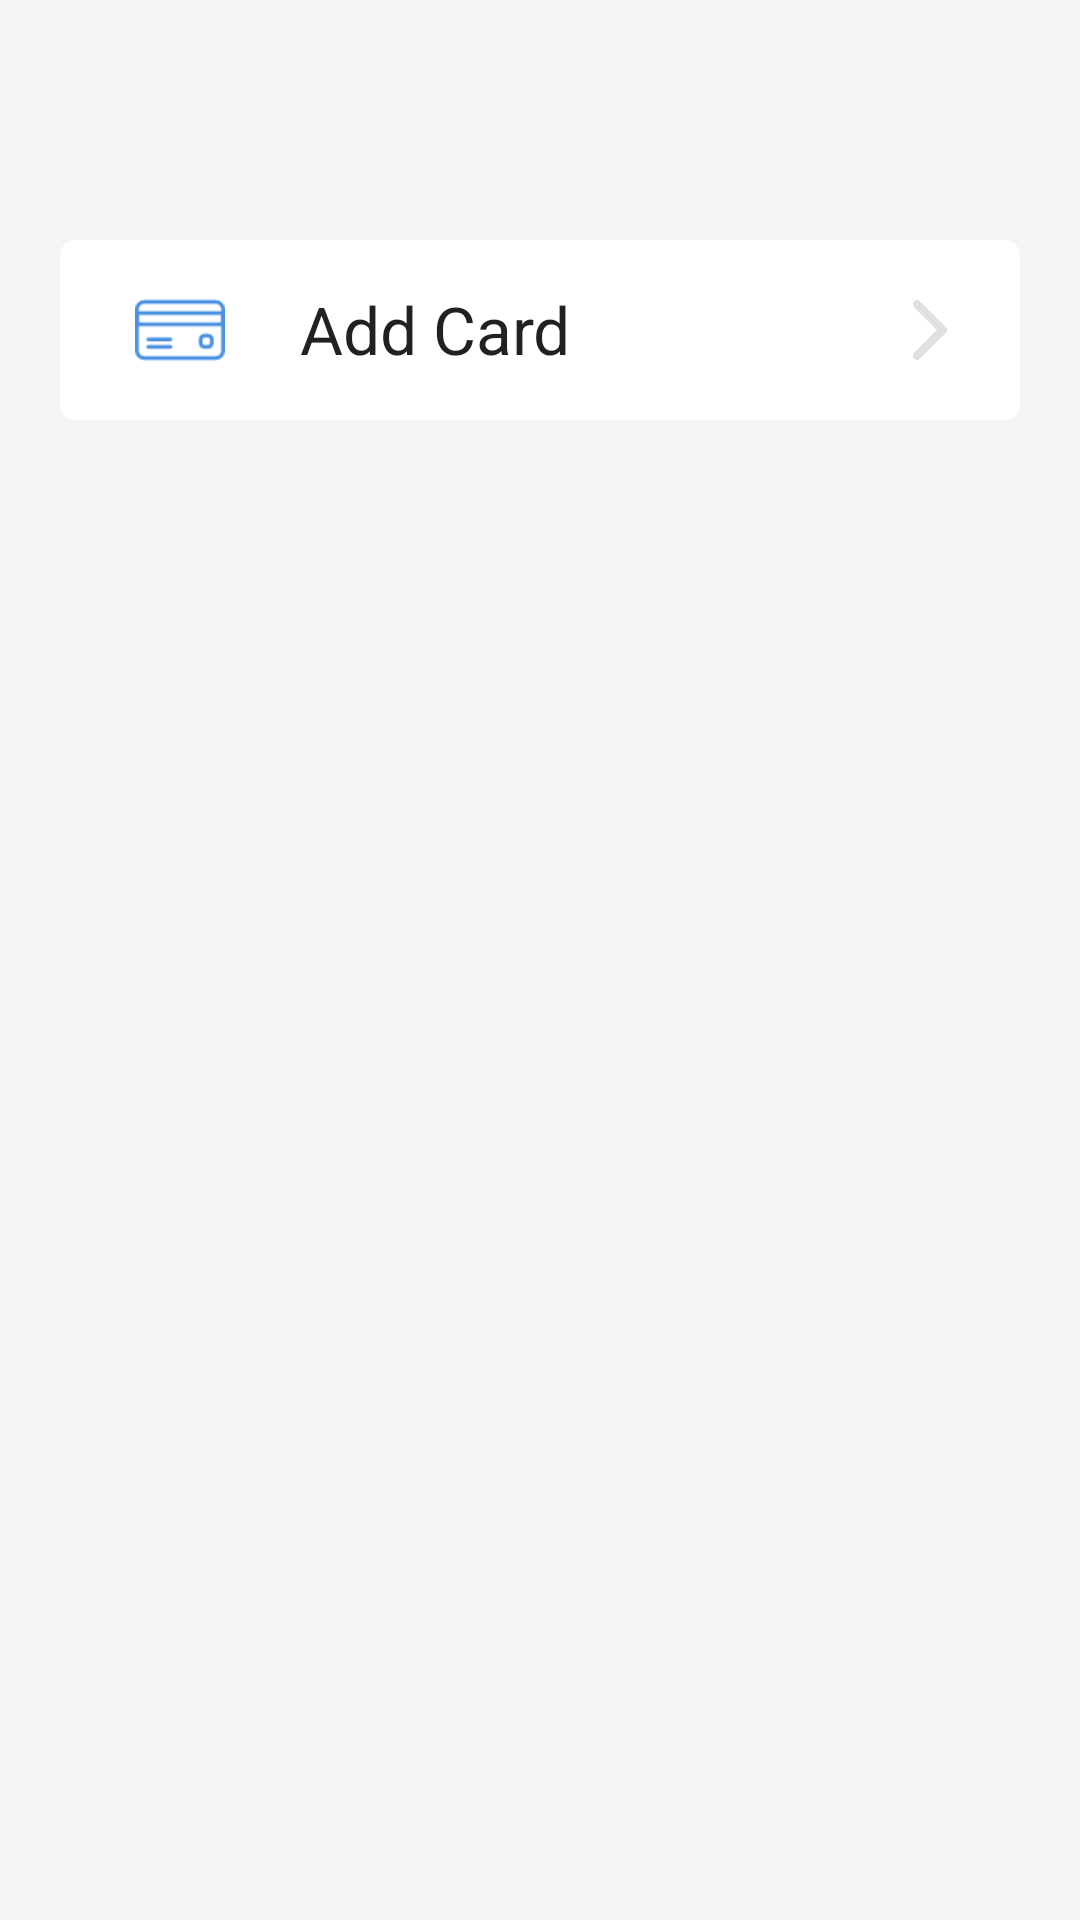

Locate icon controls on the screen. Image size 1080x1920, boxes as [x1, y1, x2, y2].
arrow point to right: [913, 300, 947, 360]
credit card: [135, 299, 225, 361]
